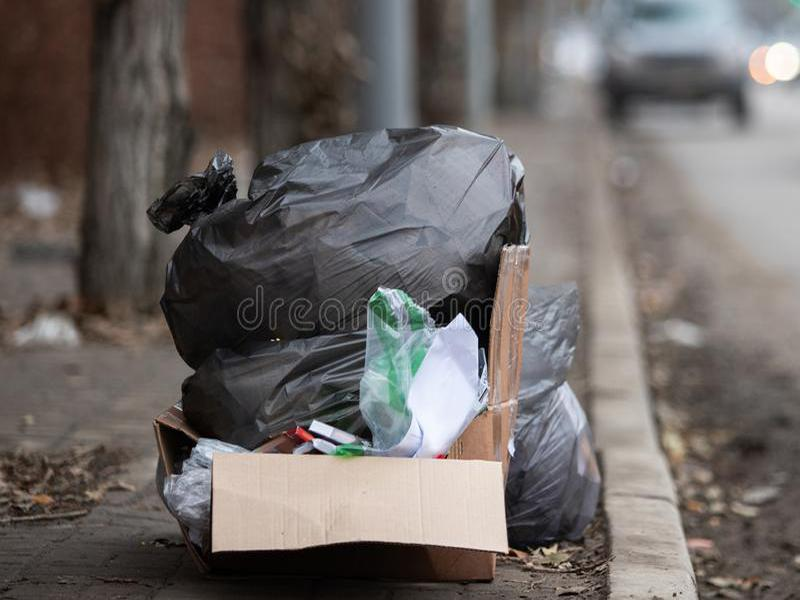cardboard: (154, 437, 527, 586)
plastic: (140, 124, 531, 330), (508, 280, 605, 550), (333, 286, 487, 455), (177, 335, 368, 431)
